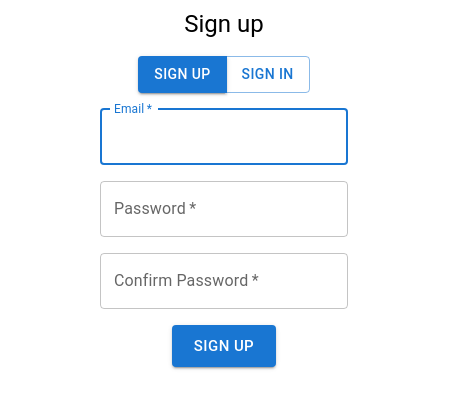
Test: <SignUp /> › sign Up › Simulate a password error
Type "aaaa@aaaa.com" into the field named "email" at (224, 137), box [100,109,348,165]
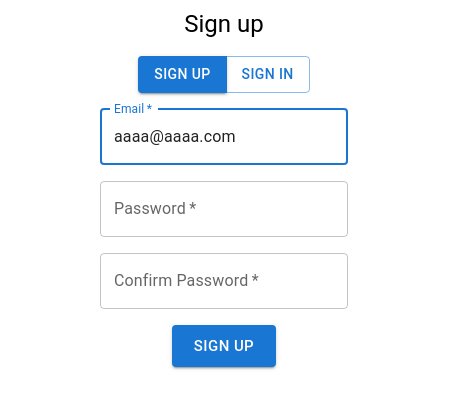
Type "psw" into the password field named "password" at (224, 209), box [100,181,348,237]
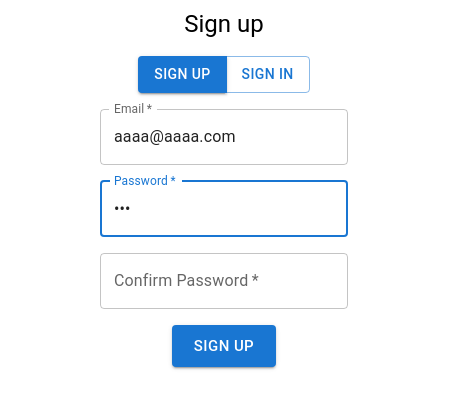
Type "psw" into the password field named "confirmPassword" at (224, 281), box [100,253,348,309]
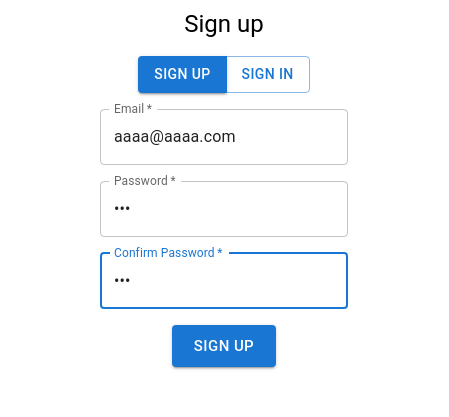
Click the submit button at (224, 346), box [172,325,276,367]
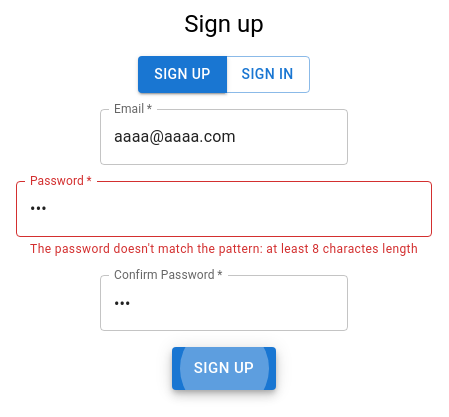
Expected: the text "The password doesn't match the pattern: at least 8 charactes length" is shown, [30,240,418,259]
